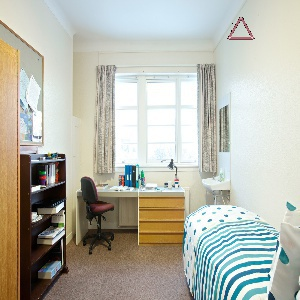triangle: (227, 15, 256, 40)
